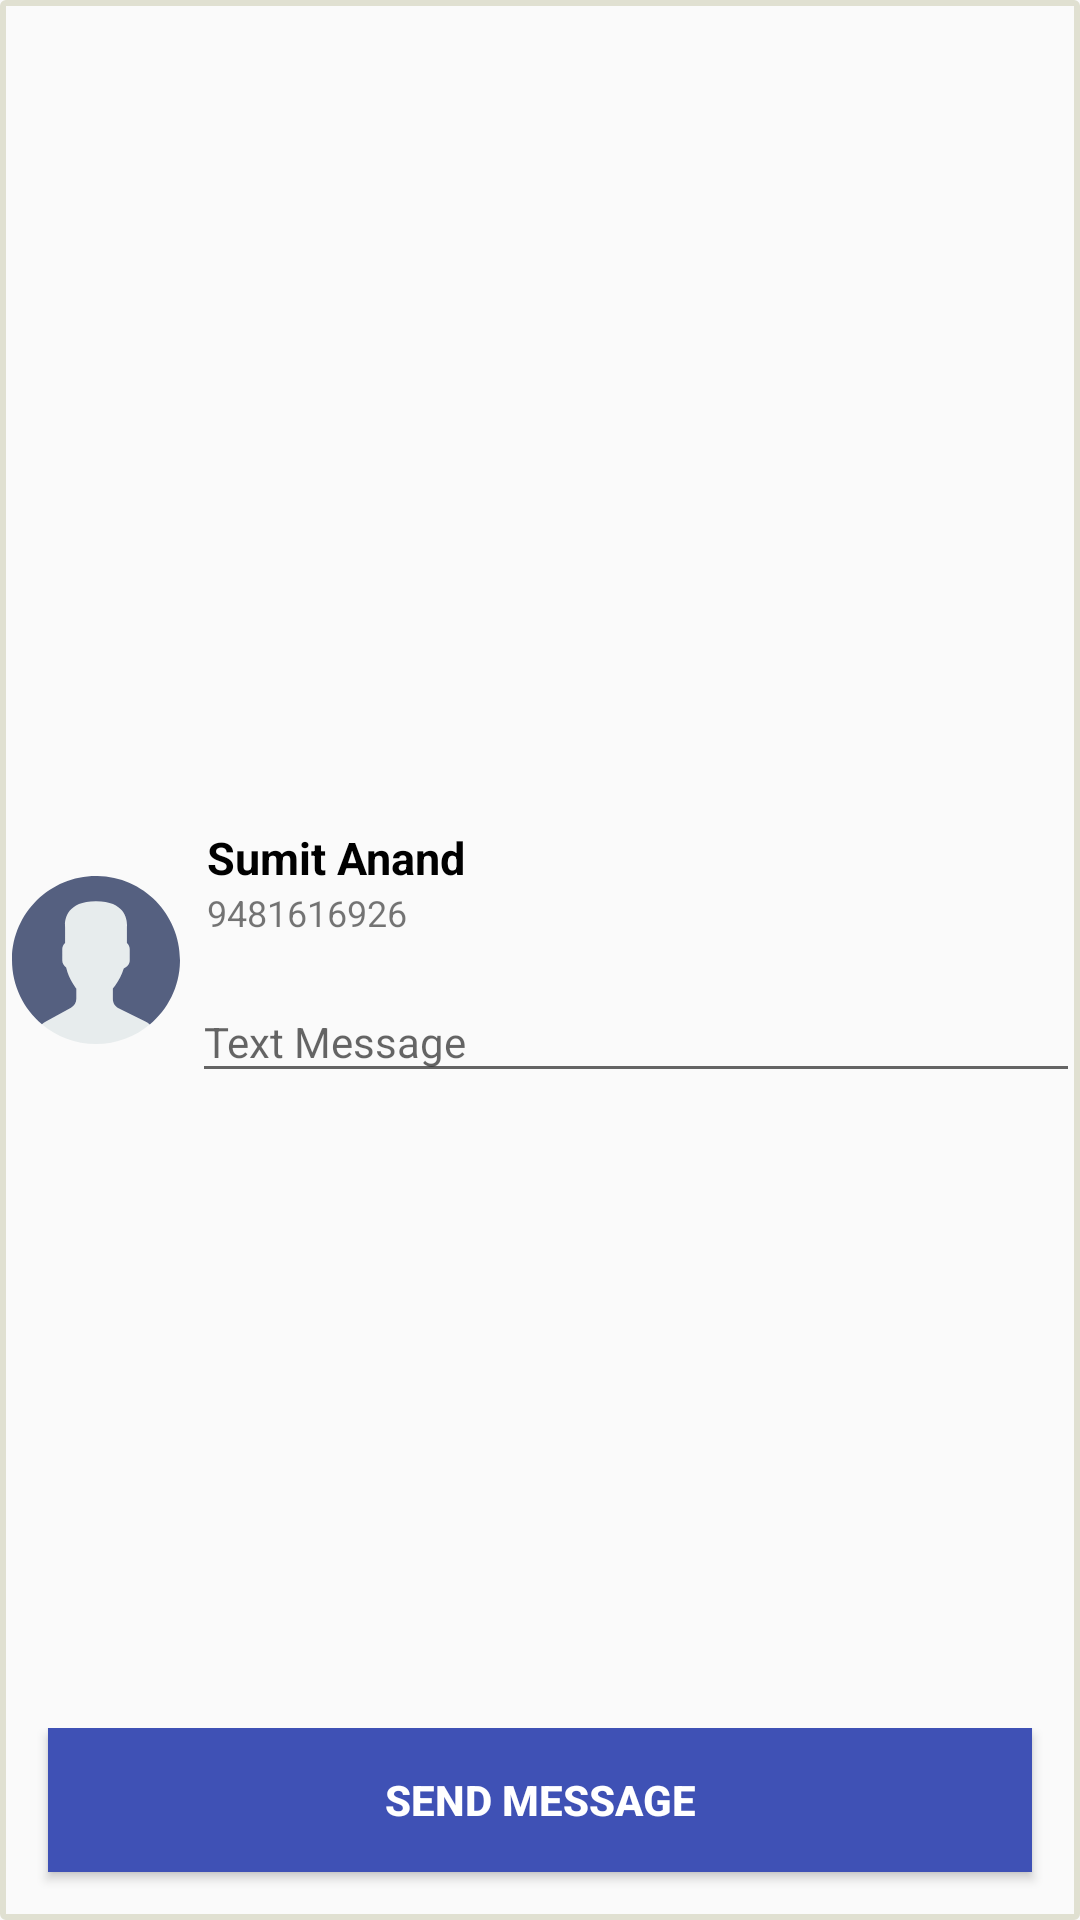

Locate icon controls on the screen. Image size 1080 × 1920, boxes as (x1, y1, x2, y2).
user: (12, 876, 180, 1025)
